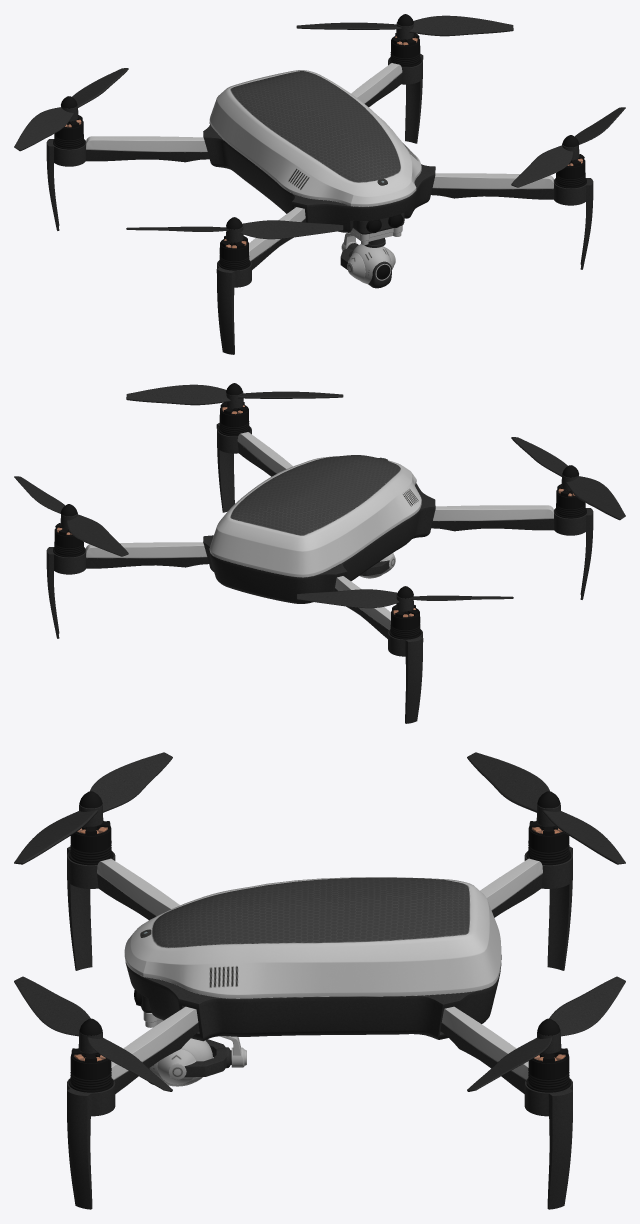
Rendered from drone_mesh.glb.
3 renders of one model, top to bottom at view 1: azimuth 30°, elevation 25°; view 2: azimuth 150°, elevation 25°; view 3: azimuth 270°, elevation 25°, orthographic. The views are drawn at different scales.
Parts seen in each view (by area): view 1: node_id165, node_id161, node_id187, node_id191, node_id185, node_id205, node_id189, node_id193, node_id199, node_id177, node_id211, node_id197 (+4 smaller); view 2: node_id165, node_id161, node_id185, node_id189, node_id187, node_id211, node_id191, node_id199, node_id193, node_id205, node_id203, node_id215 (+2 smaller); view 3: node_id165, node_id161, node_id191, node_id189, node_id185, node_id187, node_id193, node_id199, node_id205, node_id211, node_id177, node_id209 (+3 smaller).
Boxes of the visible parts, x1,y1,x2,y2 form: node_id165: [209, 70, 421, 206]; node_id161: [203, 122, 435, 234]; node_id187: [46, 136, 209, 230]; node_id191: [431, 173, 593, 269]; node_id185: [216, 207, 305, 354]; node_id205: [296, 15, 513, 39]; node_id189: [351, 54, 423, 143]; node_id193: [126, 220, 343, 242]; node_id199: [14, 68, 128, 151]; node_id177: [340, 232, 395, 288]; node_id211: [511, 107, 625, 187]; node_id197: [219, 236, 249, 268]; node_id165: [209, 455, 421, 577]; node_id161: [203, 483, 435, 603]; node_id185: [431, 505, 593, 599]; node_id189: [46, 542, 208, 638]; node_id187: [334, 576, 423, 723]; node_id211: [126, 384, 343, 408]; node_id191: [216, 423, 292, 512]; node_id199: [296, 589, 513, 611]; node_id193: [511, 437, 625, 520]; node_id205: [14, 476, 128, 556]; node_id203: [390, 605, 420, 637]; node_id215: [219, 402, 249, 434]; node_id165: [124, 877, 501, 998]; node_id161: [125, 955, 501, 1041]; node_id191: [67, 1006, 199, 1209]; node_id189: [440, 1006, 572, 1209]; node_id185: [67, 846, 179, 970]; node_id187: [480, 846, 572, 970]; node_id193: [14, 752, 172, 864]; node_id199: [467, 752, 625, 864]; node_id205: [467, 976, 625, 1091]; node_id211: [14, 976, 172, 1091]; node_id177: [149, 1036, 246, 1086]; node_id209: [528, 1048, 569, 1090].
Bounding box in the file's own units: 0.512 × 0.1343 × 0.3924.
Materials: 77 (77 with a texture image).
